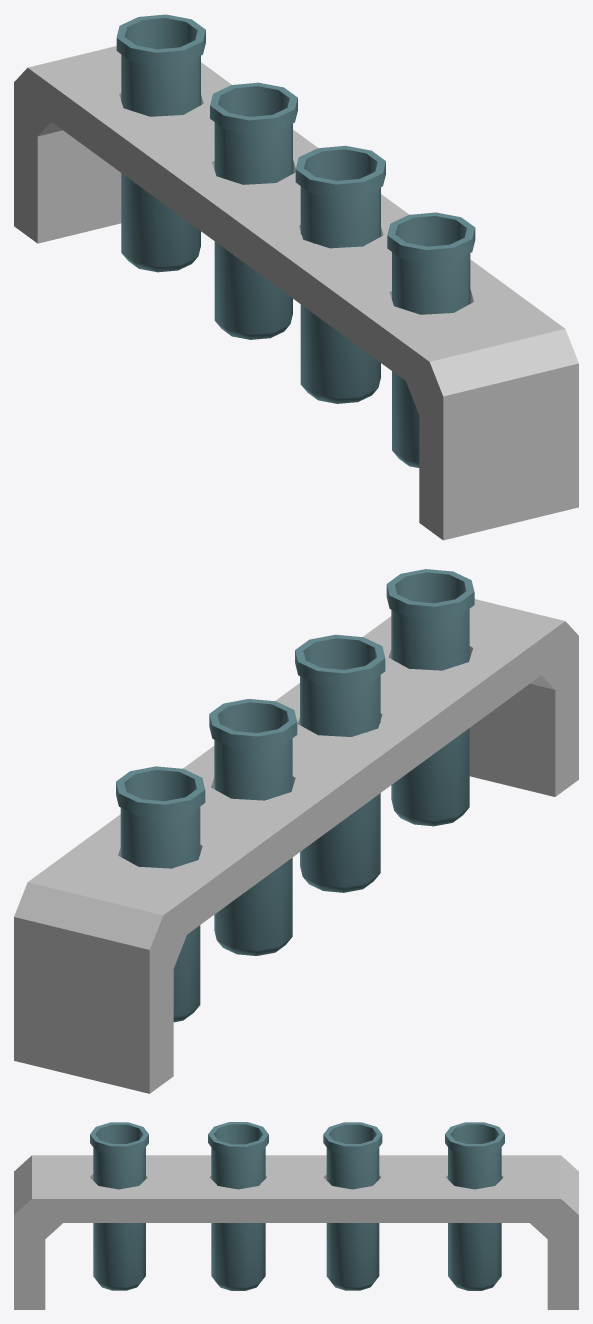
The model's file is SM_Coaster_A_01.fbx.
The picture shows the model from 3 angles, top to bottom: view 1: azimuth 30°, elevation 25°; view 2: azimuth 150°, elevation 25°; view 3: azimuth 270°, elevation 25°; orthographic projection. The views are drawn at different scales.
Parts seen in each view (by area): view 1: SM_Coaster_A_01; view 2: SM_Coaster_A_01; view 3: SM_Coaster_A_01.
Boxes of the visible parts, left/top/right/bottom form: SM_Coaster_A_01: left=14, top=14, right=578, bottom=540; SM_Coaster_A_01: left=14, top=569, right=578, bottom=1093; SM_Coaster_A_01: left=14, top=1122, right=578, bottom=1309.
Bounding box in the file's own units: 6.7 × 11.03 × 36.7.
